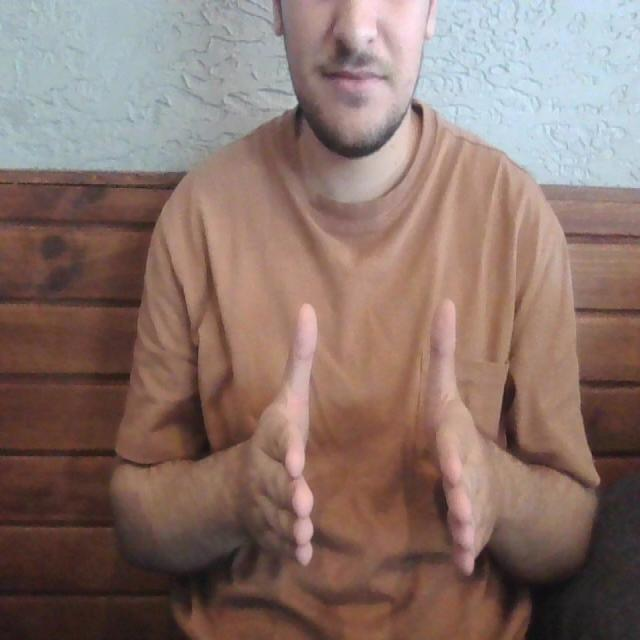Nasil: (235, 272, 510, 594)
